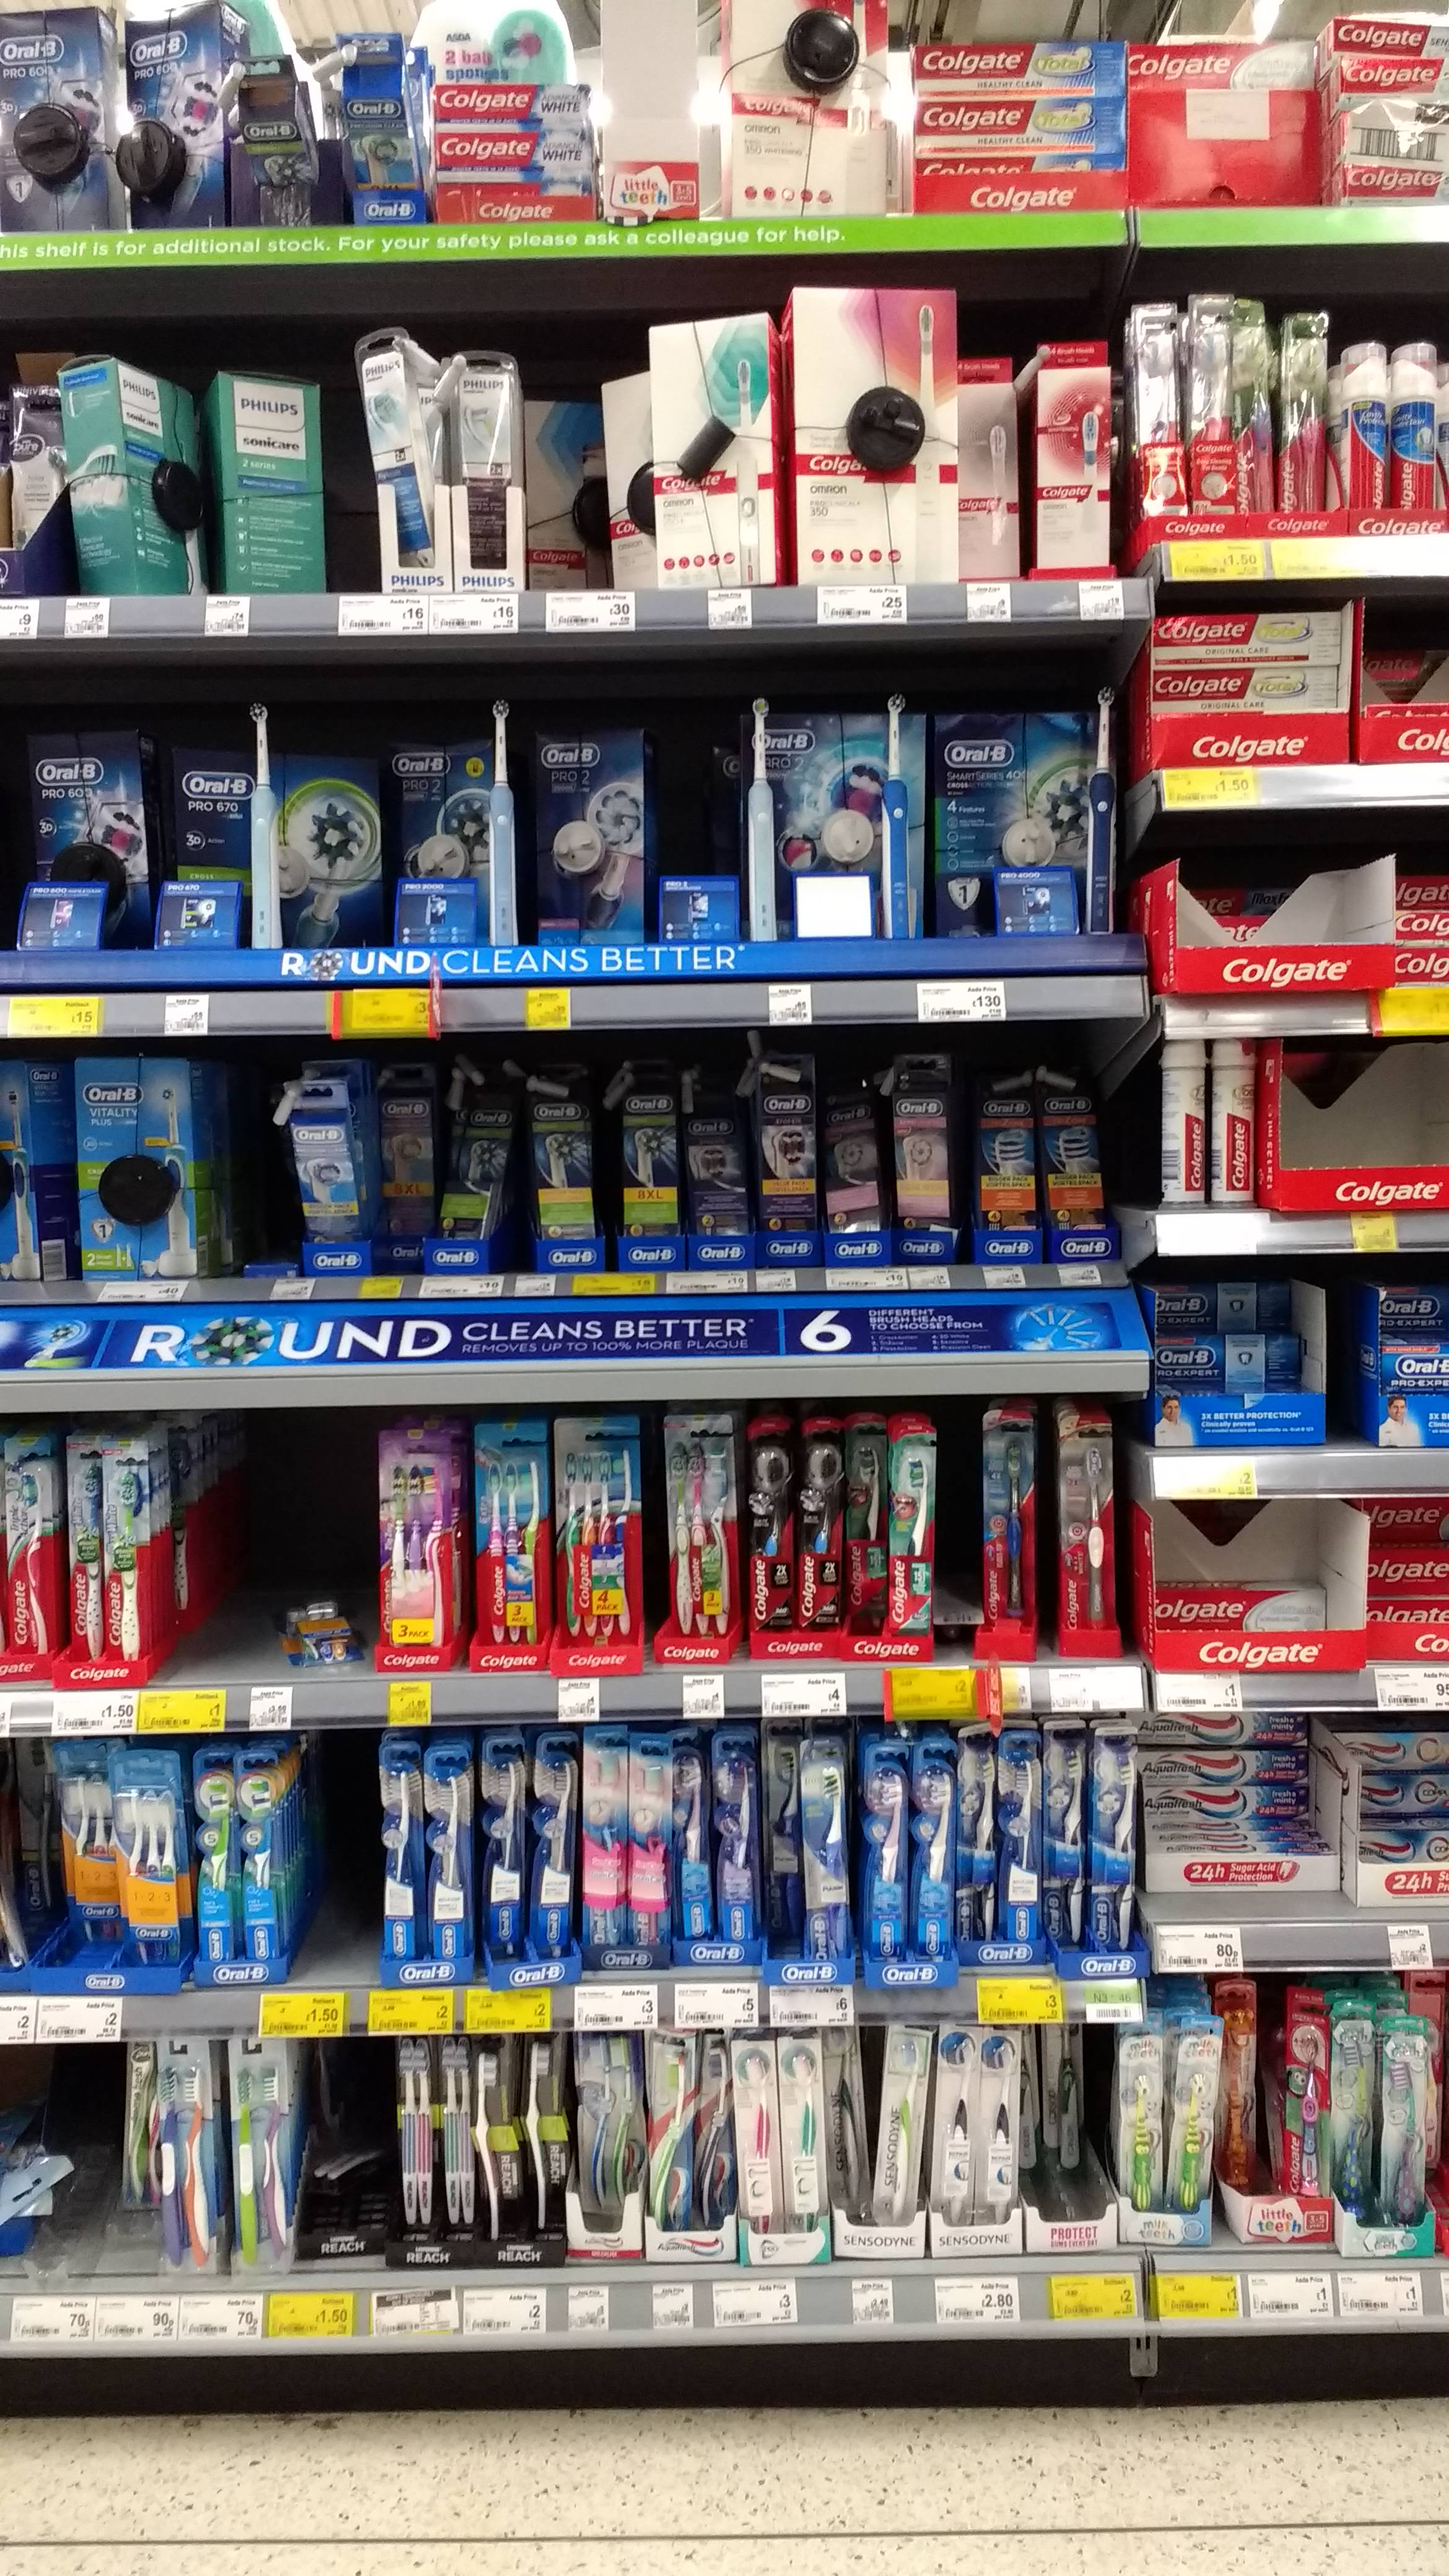Out-of-stock: (303, 1752, 386, 1985)
